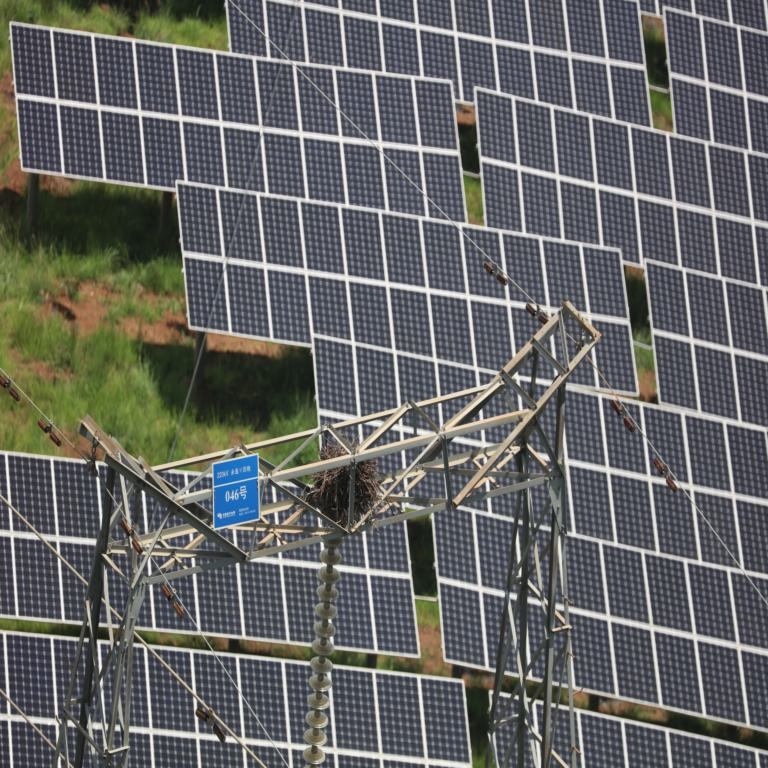nest: (309, 445, 380, 534)
